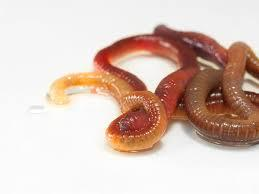insect: (90, 30, 259, 126), (182, 38, 259, 147), (106, 63, 197, 153), (47, 69, 133, 111)
